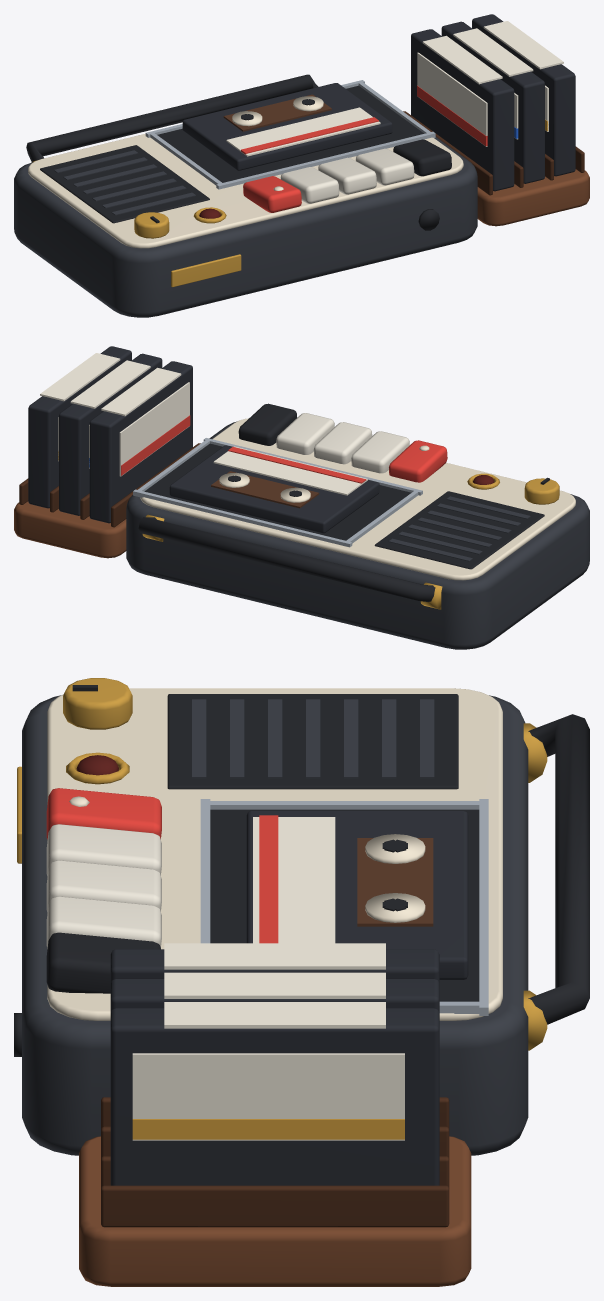
File: RmRecorder.fbx
3 renders of one model, top to bottom at view 1: azimuth 30°, elevation 25°; view 2: azimuth 150°, elevation 25°; view 3: azimuth 270°, elevation 25°, orthographic. The views are drawn at different scales.
Parts seen in each view (by area): view 1: RmRecorderBody, Cassette0, TapeIn, Cassette1, Cassette2, RecButton; view 2: RmRecorderBody, Cassette0, TapeIn, Cassette1, Cassette2, RecButton; view 3: RmRecorderBody, Cassette2, TapeIn, Cassette1, Cassette0, RecButton, ReelR, ReelL.
Part boxes in pixels (x1,y1,x2,y2): RmRecorderBody: (14, 74, 589, 317); Cassette0: (411, 29, 514, 191); TapeIn: (182, 83, 392, 170); Cassette1: (441, 21, 544, 183); Cassette2: (472, 14, 575, 176); RecButton: (243, 176, 301, 212); RmRecorderBody: (14, 403, 589, 649); Cassette0: (89, 361, 192, 523); TapeIn: (169, 445, 379, 533); Cassette1: (59, 353, 162, 515); Cassette2: (28, 346, 131, 508); RecButton: (389, 440, 447, 482); RmRecorderBody: (14, 678, 589, 1286); Cassette2: (110, 1002, 439, 1185); TapeIn: (246, 811, 468, 979); Cassette1: (110, 972, 439, 1012); Cassette0: (110, 943, 439, 983); RecButton: (46, 788, 161, 839); ReelR: (365, 893, 425, 922); ReelL: (365, 834, 425, 863).
Size of the model in its own units: 0.346 by 0.0891 by 0.182.
